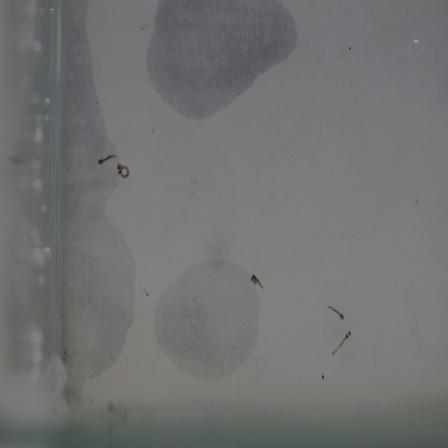Jentik-Nyamuk: (95, 147, 133, 181), (330, 328, 357, 358), (326, 298, 349, 325), (248, 269, 267, 295)
